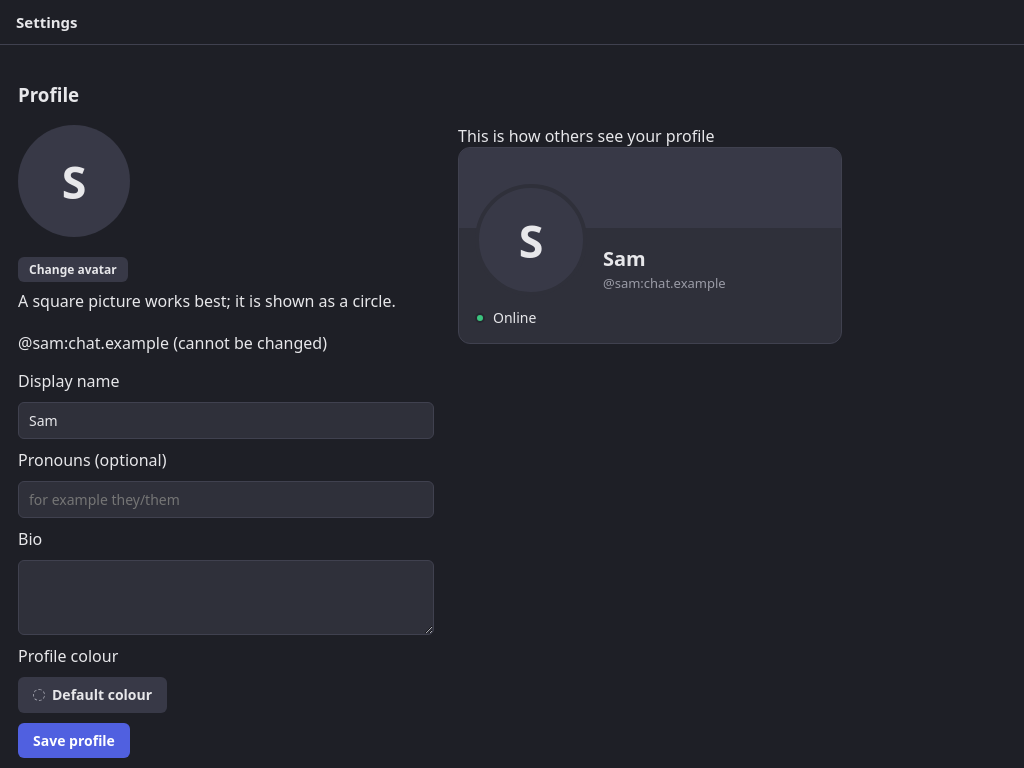
Settings -> Profile › shows markup typed into a field as text in the preview
Type "<img src=x onerror=alert(1)>" into the text box labelled "Bio". click: (226, 598)
box: [18,560,434,635]
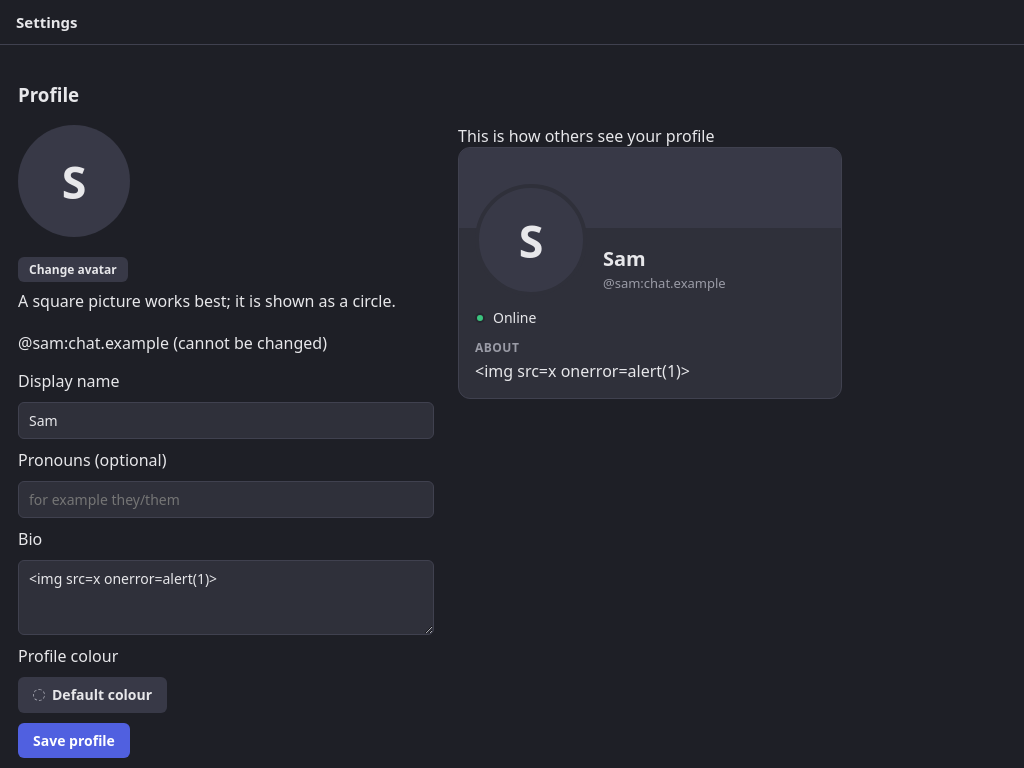
Now the text "<img src=x onerror=alert(1)>" is shown, box [475,360,690,382]
